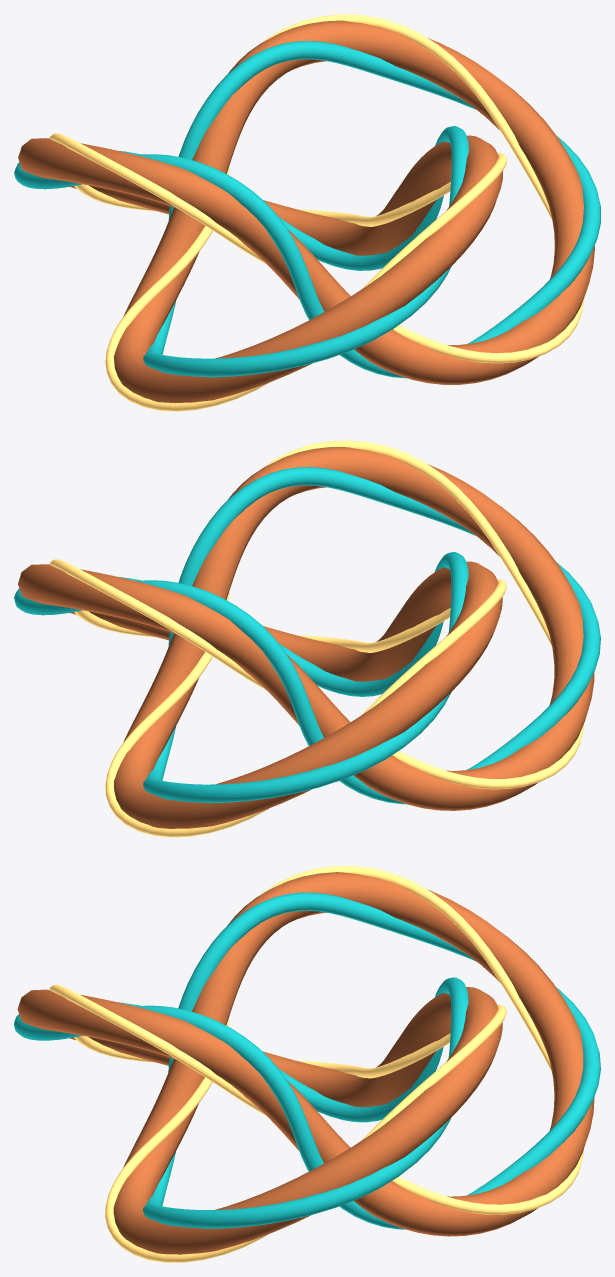
The model's file is nudo-de-cobre.glb.
The picture shows the model from 3 angles, top to bottom: view 1: azimuth 30°, elevation 25°; view 2: azimuth 150°, elevation 25°; view 3: azimuth 270°, elevation 25°; orthographic projection.
Visible parts, largest first — view 1: Cinta central de cobre, Nervadura azul, Filamento dorado; view 2: Cinta central de cobre, Nervadura azul, Filamento dorado; view 3: Cinta central de cobre, Nervadura azul, Filamento dorado.
Part boxes in pixels (x1,y1,x2,y2): Cinta central de cobre: (18,20,594,403); Nervadura azul: (14,41,600,378); Filamento dorado: (50,14,584,411); Cinta central de cobre: (18,446,594,828); Nervadura azul: (14,467,600,804); Filamento dorado: (49,440,583,837); Cinta central de cobre: (17,872,594,1254); Nervadura azul: (14,892,600,1229); Filamento dorado: (49,866,583,1262).
Bounding box in the file's own units: 3.73 × 1.62 × 3.86.
